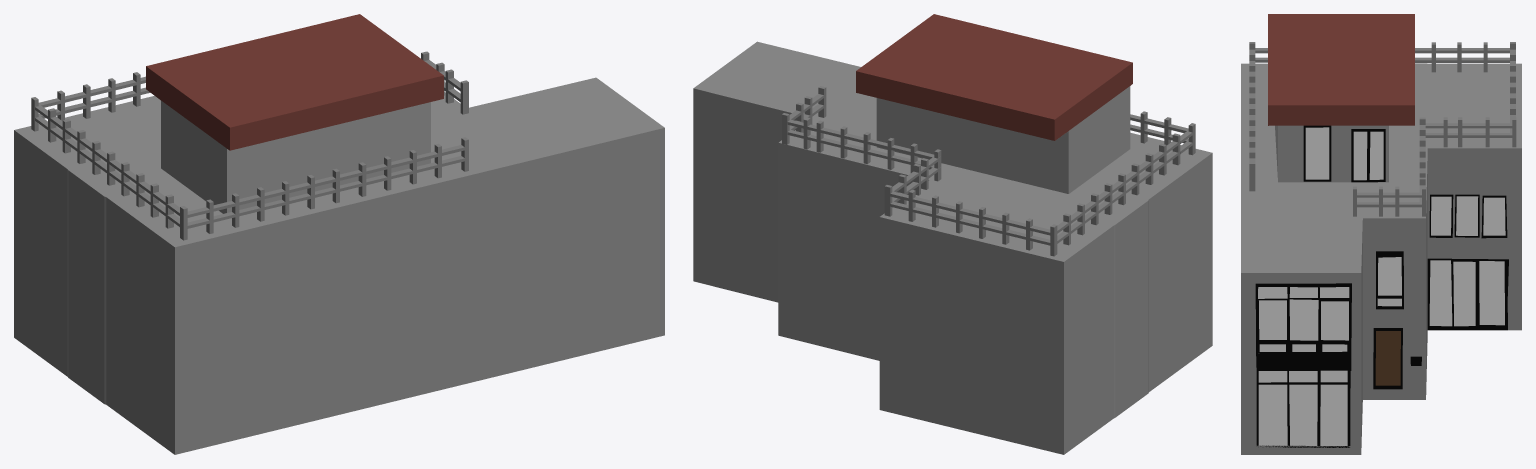
Rendered from House.fbx.
The picture shows the model from 3 angles, left to right: view 1: azimuth 30°, elevation 25°; view 2: azimuth 150°, elevation 25°; view 3: azimuth 270°, elevation 25°; orthographic projection. The views are drawn at different scales.
Parts seen in each view (by area): view 1: Cube, Cube.001; view 2: Cube, Cube.001; view 3: Cube, Cube.001, Cube.024, Cube.025, Cube.026, Cube.013, Cube.003, Cube.002, Cube.014, Cube.005, Cube.015, Cube.004.
Boxes of the visible parts, x1=… form: Cube: x1=14, y1=77, x2=664, y2=454; Cube.001: x1=146, y1=14, x2=443, y2=213; Cube: x1=693, y1=41, x2=1212, y2=454; Cube.001: x1=856, y1=14, x2=1132, y2=193; Cube: x1=1241, y1=63, x2=1521, y2=454; Cube.001: x1=1268, y1=14, x2=1414, y2=182; Cube.024: x1=1457, y1=42, x2=1484, y2=72; Cube.025: x1=1483, y1=42, x2=1510, y2=72; Cube.026: x1=1431, y1=42, x2=1458, y2=72; Cube.013: x1=1372, y1=186, x2=1399, y2=216; Cube.003: x1=1462, y1=117, x2=1489, y2=147; Cube.002: x1=1489, y1=117, x2=1516, y2=147; Cube.014: x1=1399, y1=186, x2=1425, y2=216; Cube.005: x1=1434, y1=117, x2=1462, y2=147; Cube.015: x1=1355, y1=186, x2=1382, y2=216; Cube.004: x1=1420, y1=117, x2=1447, y2=147.
Size of the model in its own units: 1979 by 1151 by 1120.
